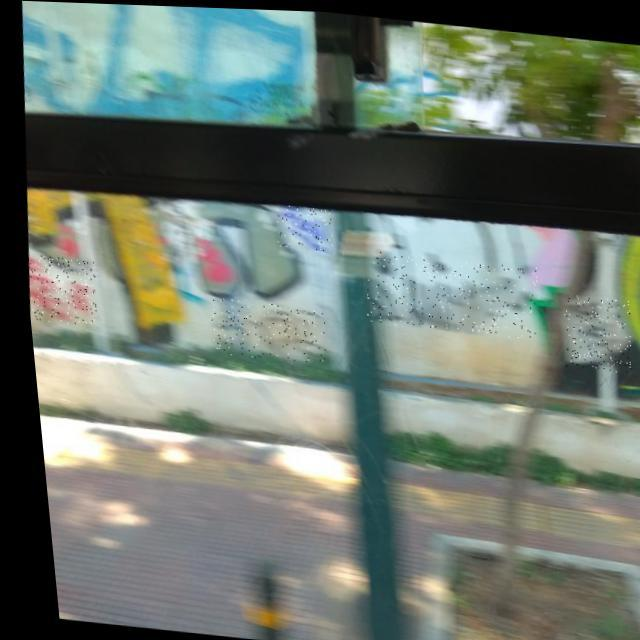-: (354, 246, 536, 336), (200, 296, 324, 364), (552, 290, 629, 368), (20, 254, 94, 326), (270, 202, 332, 250)
